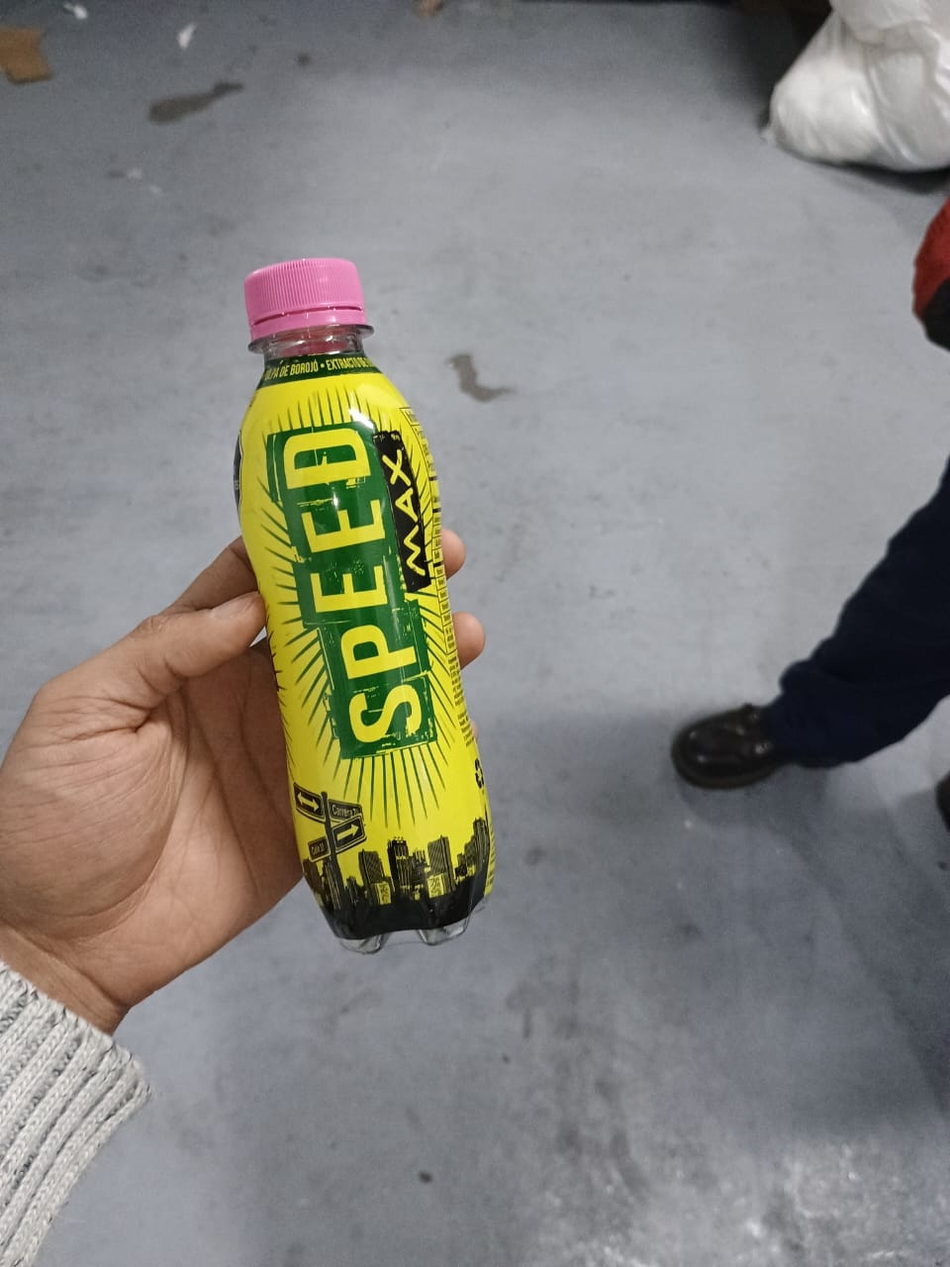Plastico: (233, 256, 498, 951)
